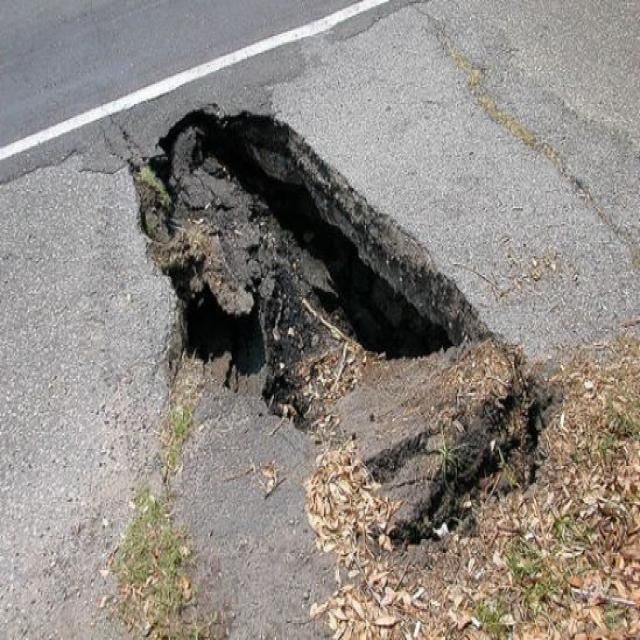pothole: (122, 99, 548, 553)
